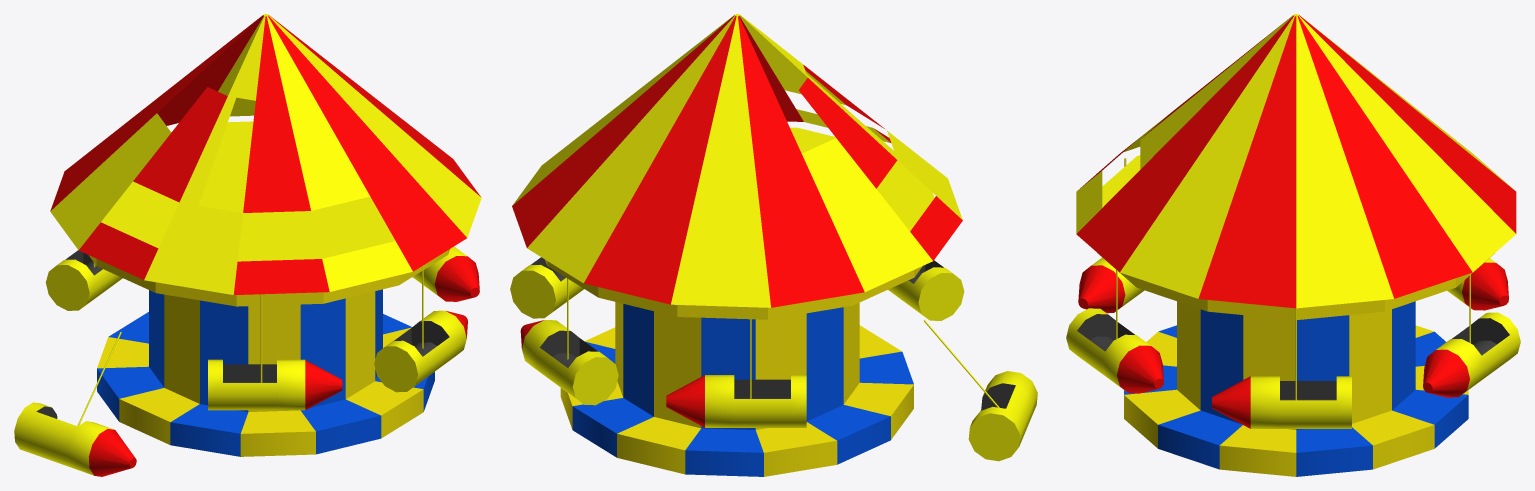
Rendered from 06 Carousel.FBX.
3 views of the same model, side by side, from view 1: azimuth 30°, elevation 25°; view 2: azimuth 150°, elevation 25°; view 3: azimuth 270°, elevation 25° (orthographic). The views are drawn at different scales.
Visible parts, largest first — view 1: Carousel; view 2: Carousel; view 3: Carousel.
Part boxes in pixels (left/top/right/bottom): Carousel: left=14, top=14, right=481, bottom=476; Carousel: left=510, top=14, right=1037, bottom=476; Carousel: left=1066, top=14, right=1520, bottom=476.
Size of the model in its own units: 3079 by 2419 by 2572.
